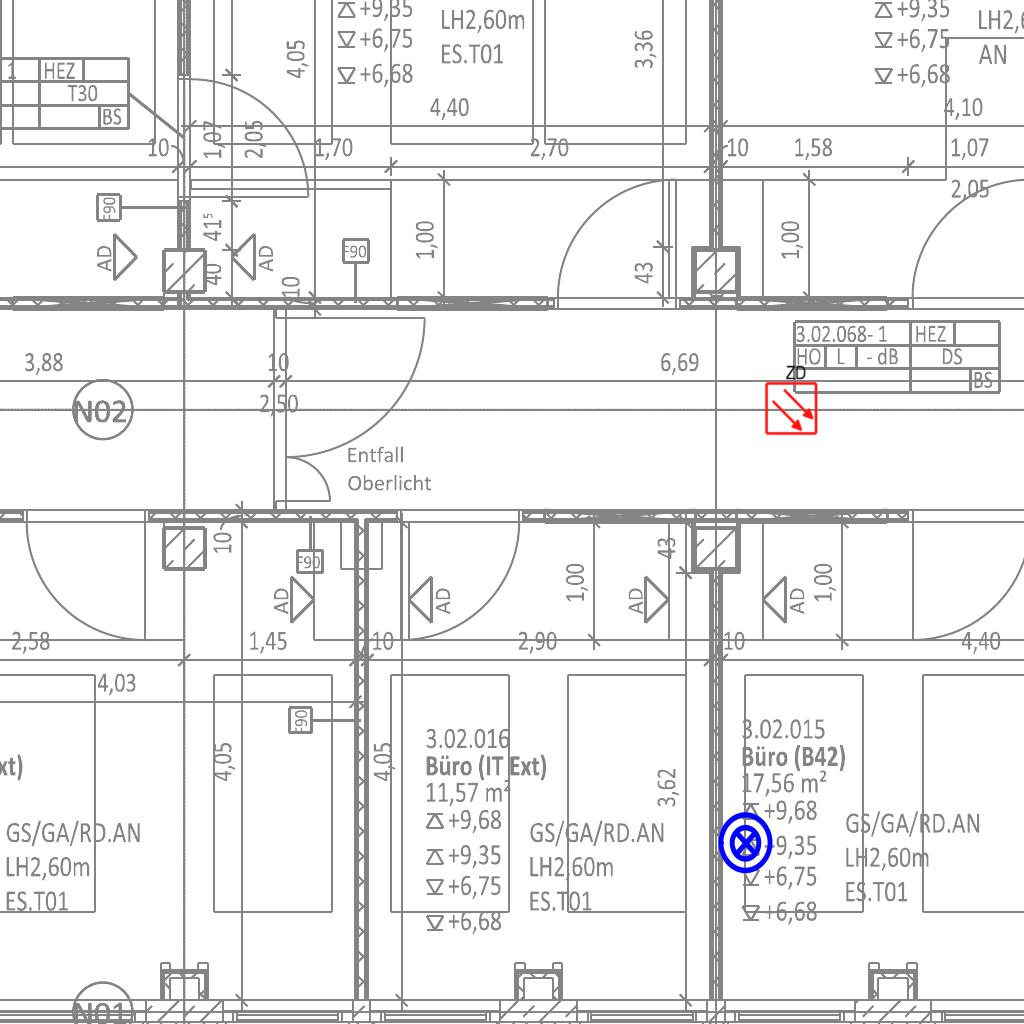Taster_beleuchtet: (713, 810, 779, 876)
ZD_Melder_in_Zwischendecke_mit_Revisionsoeffnung_mind_40_x_40_cm: (762, 362, 819, 436)
